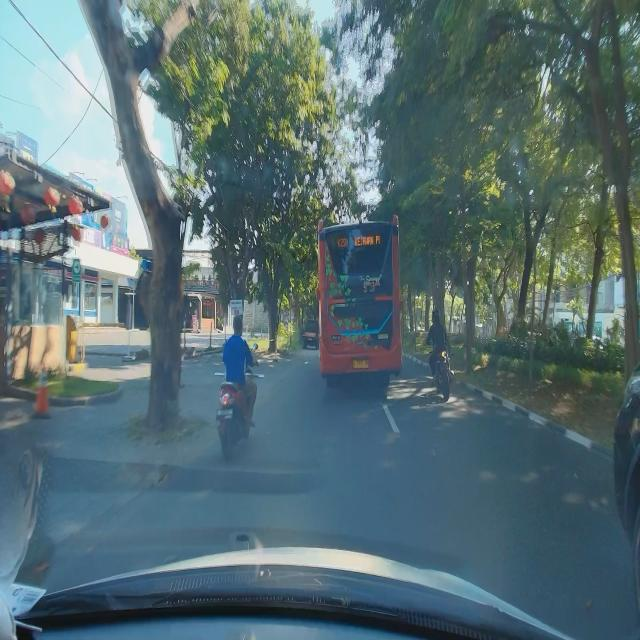bus: (315, 213, 403, 389)
license-plate: (352, 359, 370, 370)
